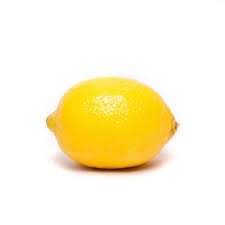lemon: (40, 67, 190, 171)
